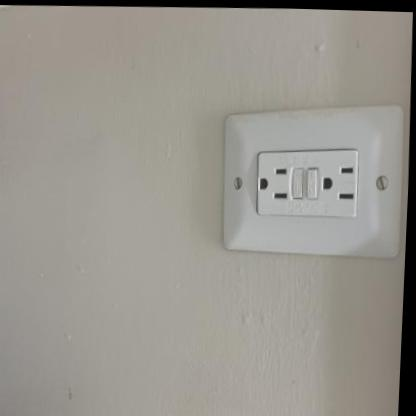OUTLET: (218, 106, 405, 260)
